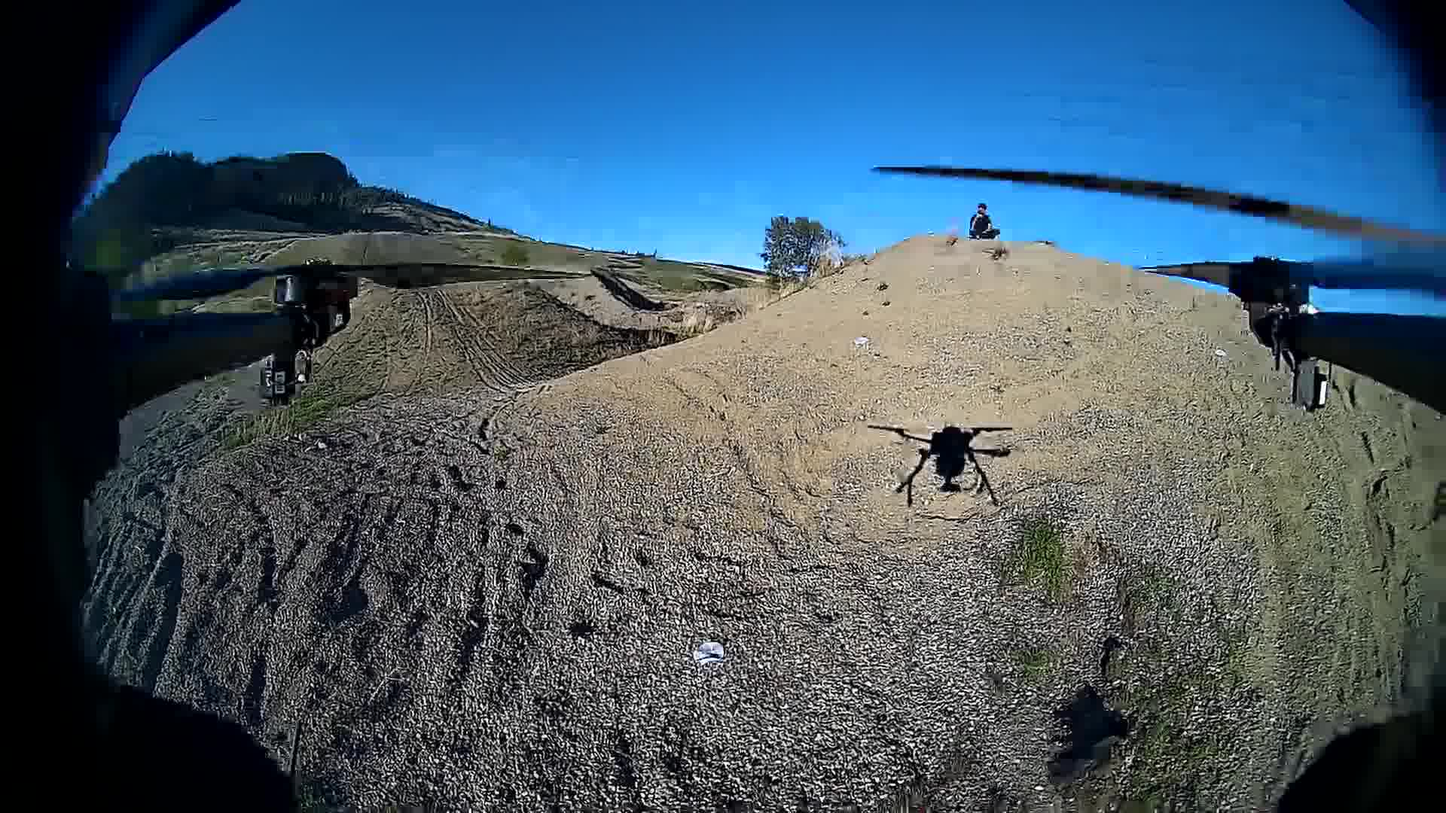Target: (693, 641, 724, 665)
